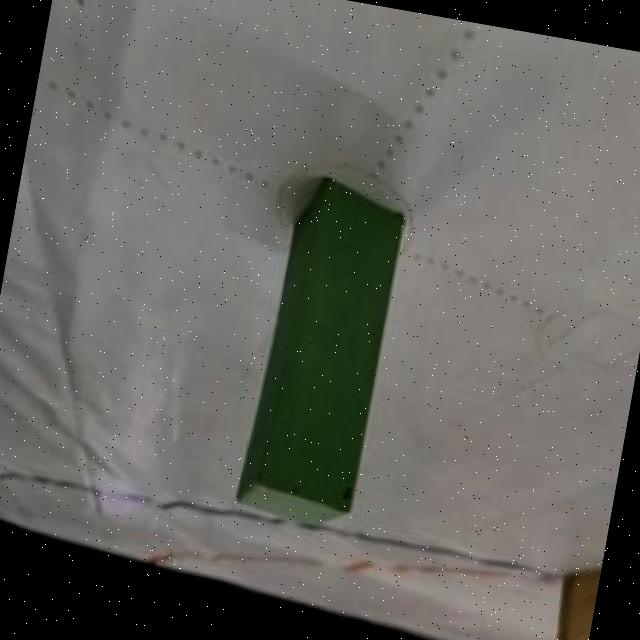greenbox: (228, 167, 414, 536)
